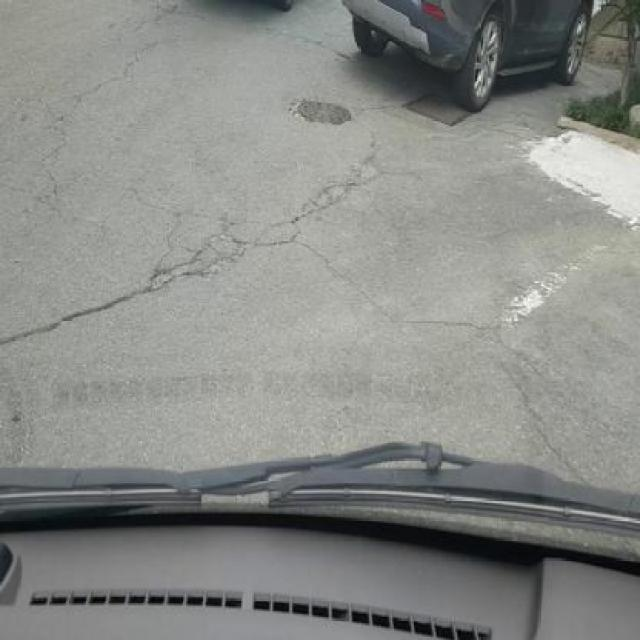Manhole: (403, 88, 478, 132), (288, 92, 354, 130)
